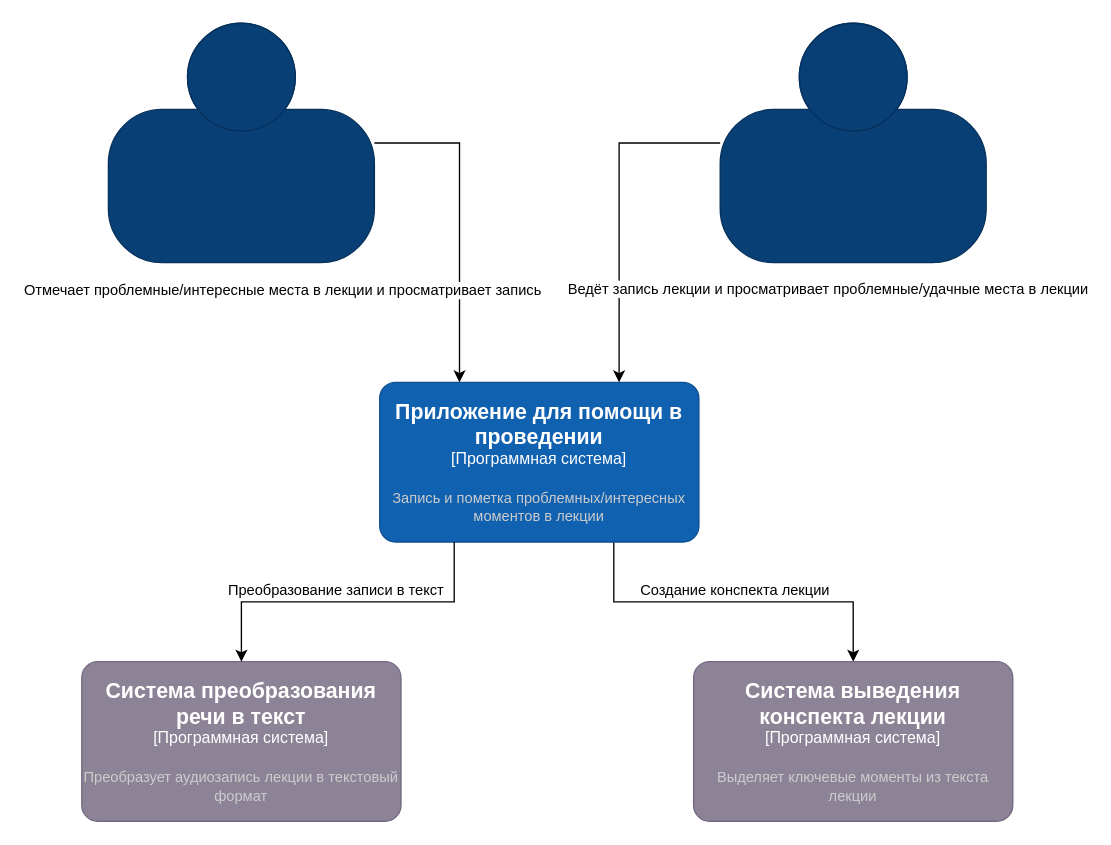
Some shapes in this 1111 by 845 pixel diagram are drawn without their labels. The box of each missing label's shape, as (x1, y1, x2, y2) in pixels:
Преподаватель [Пользователь] Ведёт лекцию: (719, 22, 986, 263)
Студент [Пользователь] Что слушает лекцию: (107, 22, 374, 263)
